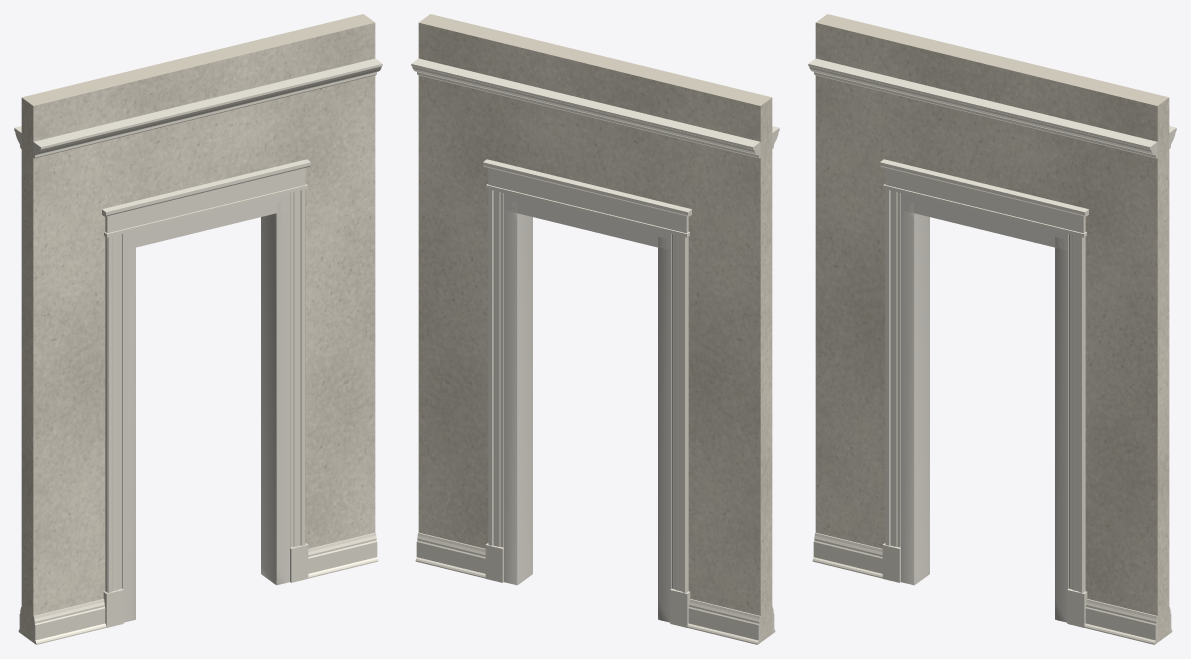
File: interior_wall_doorway_ground.glb
3 renders of one model, left to right at view 1: azimuth 30°, elevation 25°; view 2: azimuth 150°, elevation 25°; view 3: azimuth 330°, elevation 25°, orthographic.
Parts seen in each view (by area): view 1: interior_wall_doorway_ground_plaster, molduras, interior_wall_doorway_ground_frame; view 2: interior_wall_doorway_ground_plaster, molduras, interior_wall_doorway_ground_frame; view 3: interior_wall_doorway_ground_plaster, molduras, interior_wall_doorway_ground_frame.
Boxes of the visible parts, x1,y1,x2,y2 form: interior_wall_doorway_ground_plaster: [21, 14, 375, 642]; molduras: [14, 58, 382, 644]; interior_wall_doorway_ground_frame: [122, 193, 289, 622]; interior_wall_doorway_ground_plaster: [418, 14, 772, 642]; molduras: [411, 58, 779, 644]; interior_wall_doorway_ground_frame: [504, 193, 671, 622]; interior_wall_doorway_ground_plaster: [815, 14, 1169, 642]; molduras: [808, 58, 1176, 644]; interior_wall_doorway_ground_frame: [901, 193, 1068, 622].
Bounding box in the file's own units: 2 × 3 × 0.27.
Materials: 3 (1 with a texture image).
